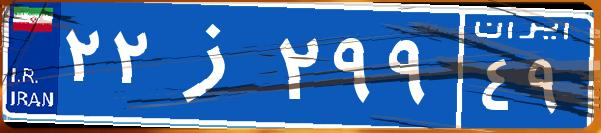2: (273, 28, 330, 110), (57, 26, 110, 107), (110, 28, 158, 105)
4: (475, 38, 525, 113)
9: (385, 28, 445, 110), (330, 28, 385, 110), (525, 38, 570, 115)
ز: (158, 15, 273, 115)
